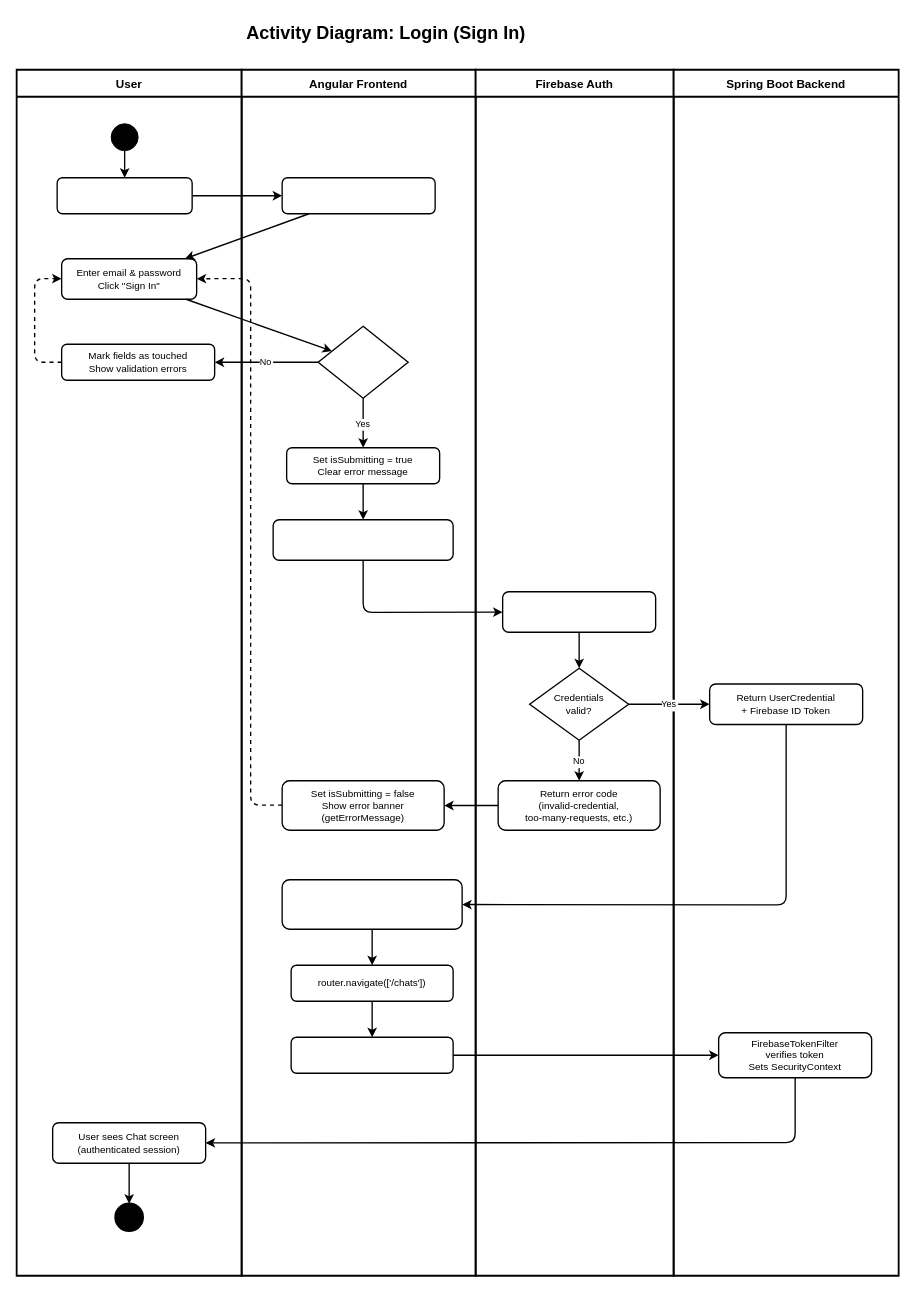
Some shapes in this 914 by 1292 pixel diagram are drawn without their labels. Each missing label, with the centre of its shape:
"AuthInterceptor attaches Bearer token to requests" goes at [371,1055].
"AuthService.login() signInWithEmailAndPassword()" goes at [362,540].
"Display login form (email, password)" goes at [358,195].
"Form valid?" goes at [362,362].
"Navigate to /login" goes at [124,195].
"onAuthStateChanged fires firebaseUser signal updated isAuthenticated = true" goes at [371,904].
"Verify email & password against Firebase users" goes at [579,612].
